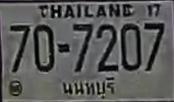0: (33, 24, 54, 71), (120, 23, 140, 70)
2: (96, 23, 117, 71)
7: (72, 23, 92, 71), (9, 24, 29, 72), (144, 22, 164, 70)
NBI: (59, 75, 116, 98)
